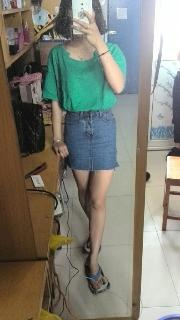short sleeve top: (42, 42, 127, 112)
skirt: (63, 107, 119, 171)
